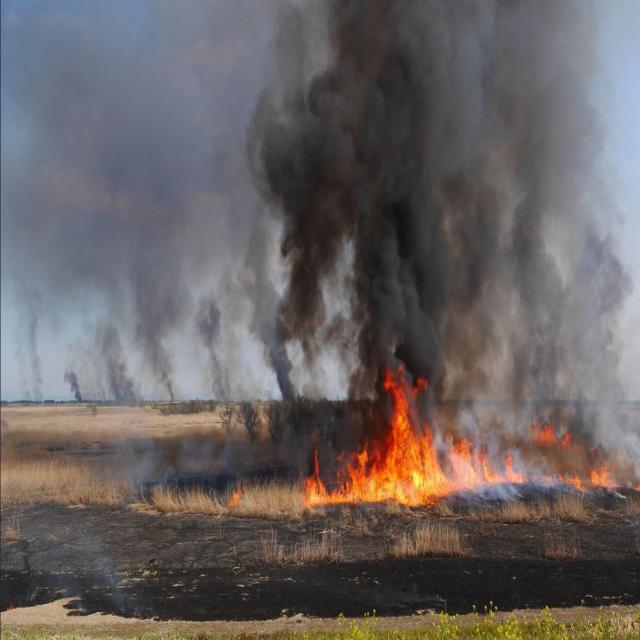fire: (315, 350, 517, 509)
